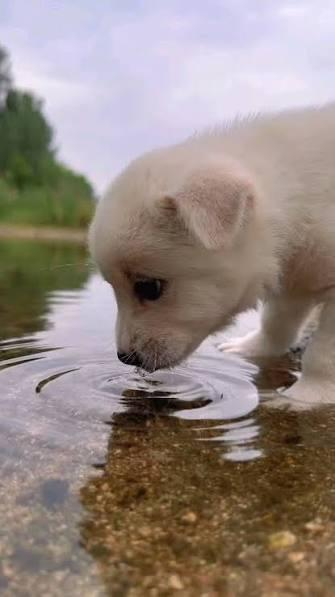puppy-dog: (88, 97, 335, 414)
